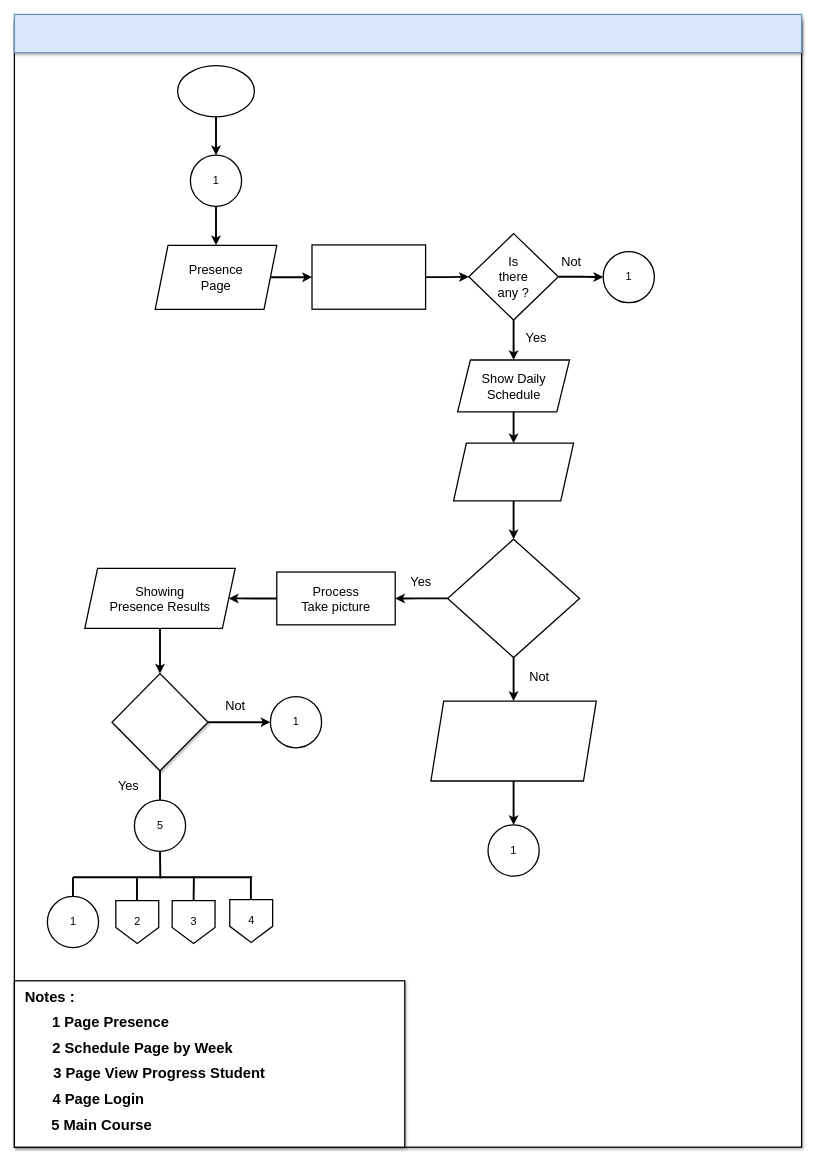
Image size: 817x1163. Some labels were removed from this diagram. The shapes that lost their labels are listed below. From the top down, each one's centre as x and y in pixels, then its label:
At point (408, 34): "Student Attendance Flowchart".
At point (216, 91): "Start".
At point (368, 277): "Schedule Fetch Process Daily By Batch".
At point (513, 471): "Input Presence Qr Code".
At point (513, 598): "Does the schedule match the Batch?".
At point (160, 723): "Main Course ?".
At point (513, 740): "Warning batch is not the same as schedule".
